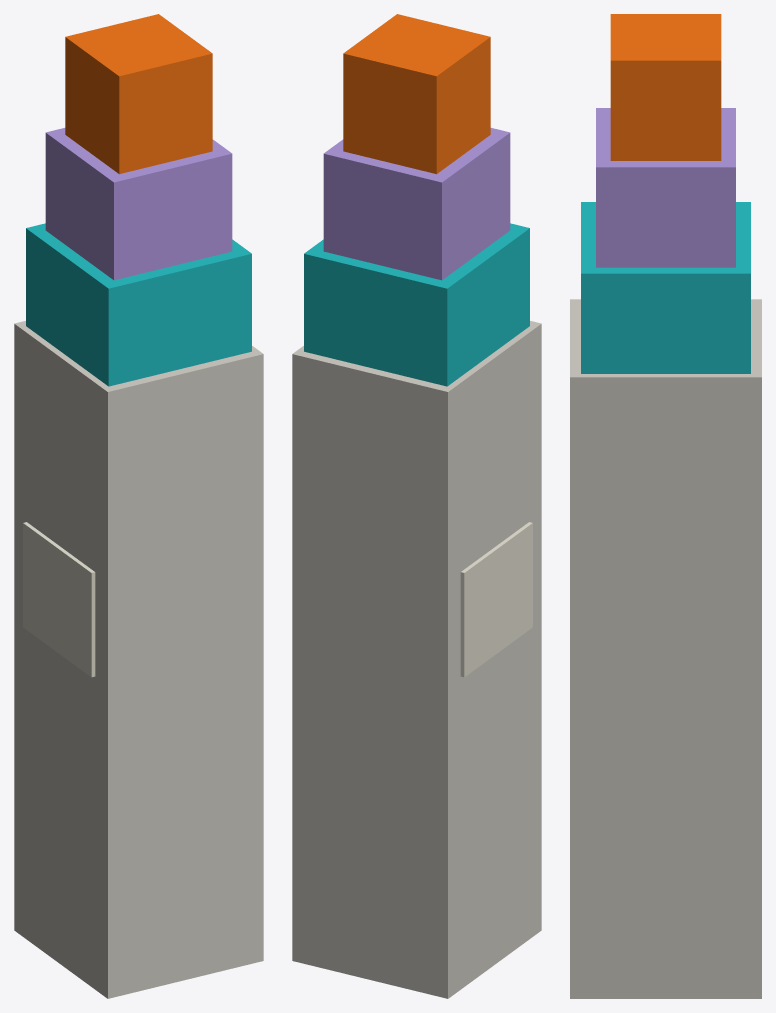
The model's file is SM_EndPylon.fbx.
3 renders of one model, left to right at view 1: azimuth 30°, elevation 25°; view 2: azimuth 150°, elevation 25°; view 3: azimuth 270°, elevation 25°, orthographic. The views are drawn at different scales.
Visible parts, largest first — view 1: SM_EndPylon; view 2: SM_EndPylon; view 3: SM_EndPylon.
Part boxes in pixels (x1,y1,x2,y2): SM_EndPylon: (14,14,263,998); SM_EndPylon: (292,14,541,998); SM_EndPylon: (570,14,761,998).
Bounding box in the file's own units: 512 × 520 × 2760.
